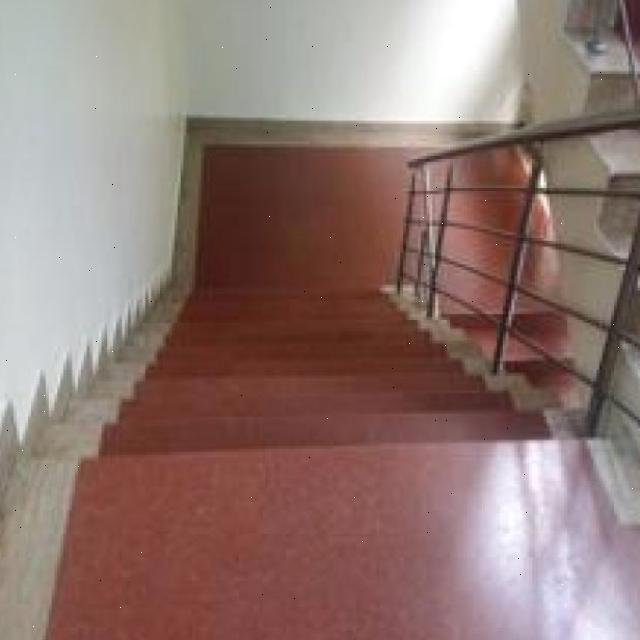stair: (43, 335, 585, 519)
